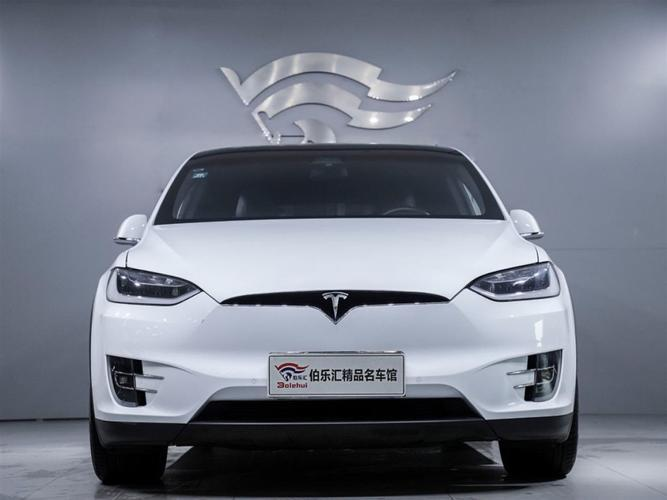Tesla: (323, 291, 349, 321)
